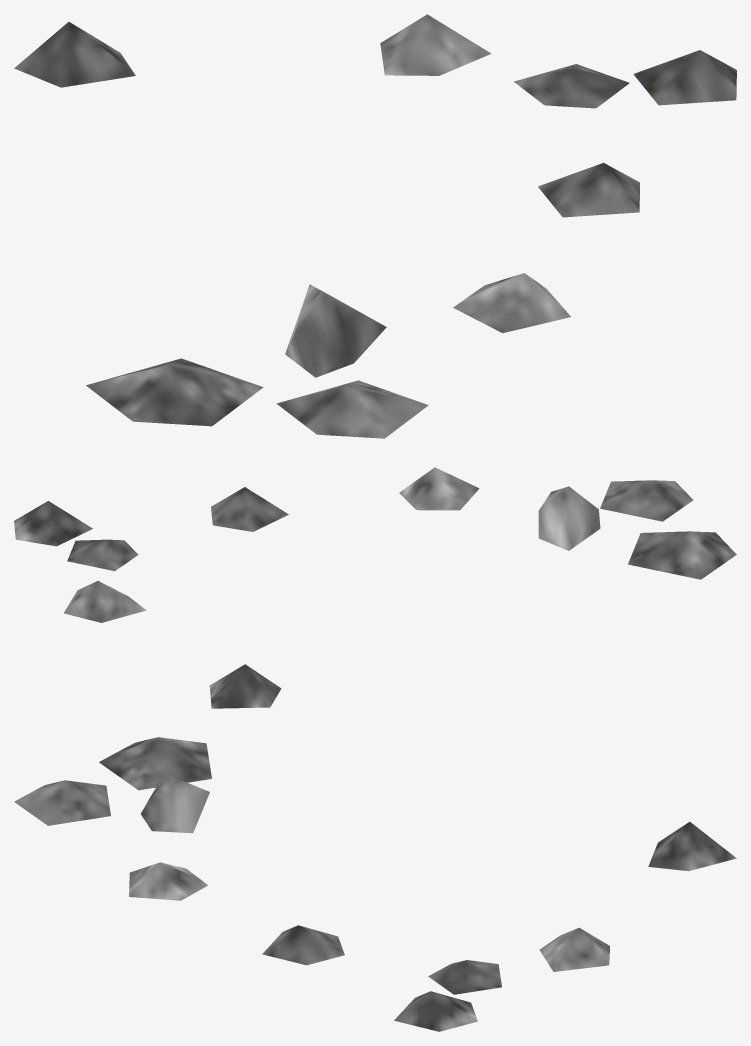
File: rock_jfield2.glb
The picture shows the model from 3 angles, top to bottom: view 1: azimuth 30°, elevation 25°; view 2: azimuth 150°, elevation 25°; view 3: azimuth 270°, elevation 25°; orthographic projection. The views are drawn at different scales.
Visible parts, largest first — view 1: Rock_JField2; view 2: Rock_JField2; view 3: Rock_JField2.
Part boxes in pixels (<box>): Rock_JField2: <box>14,14,736,438</box>; Rock_JField2: <box>14,467,736,708</box>; Rock_JField2: <box>14,737,736,1031</box>.
Bounding box in the file's own units: 20.6 × 1.74 × 21.68.
1 material, 1 textured.
